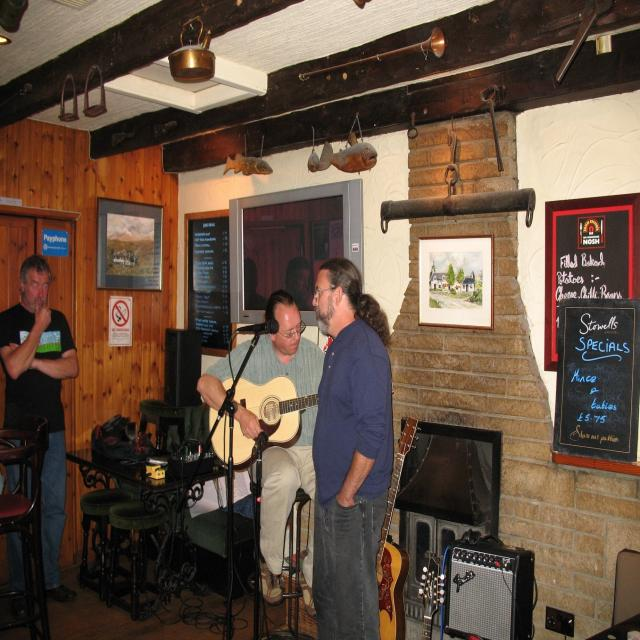guitar: (208, 375, 393, 475), (372, 417, 421, 640), (408, 552, 444, 640)
